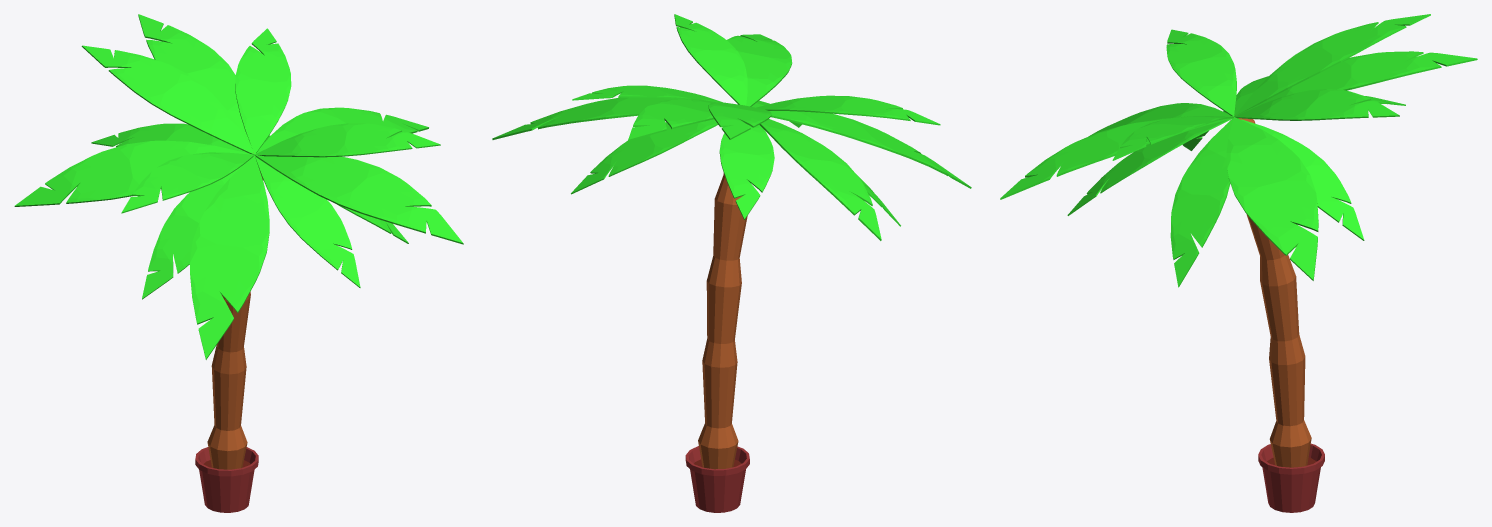
File: Palm Tree.glb
The picture shows the model from 3 angles, left to right: view 1: azimuth 30°, elevation 25°; view 2: azimuth 150°, elevation 25°; view 3: azimuth 270°, elevation 25°; orthographic projection. The views are drawn at different scales.
Parts seen in each view (by area): view 1: Leaf.002, Leaf.003, Leaf.001, Leaf.012, Tree, Leaf.011, Leaf.008, Leaf, Leaf.010, Leaf.013, Leaf.007, Pot (+2 smaller); view 2: Tree, Leaf.001, Leaf.006, Leaf.010, Pot, Leaf.005, Leaf.002, Leaf.003, Leaf.013, Leaf.004, Leaf, Leaf.012 (+1 smaller); view 3: Leaf.004, Tree, Leaf.009, Leaf.012, Leaf, Leaf.013, Leaf.011, Leaf.003, Pot, Leaf.005, Leaf.008, Leaf.010 (+1 smaller).
Boxes of the visible parts, left/top/right/bottom form: Leaf.002: left=189, top=155, right=269, bottom=359; Leaf.003: left=255, top=154, right=463, bottom=244; Leaf.001: left=14, top=140, right=252, bottom=206; Leaf.012: left=81, top=45, right=253, bottom=154; Tree: left=207, top=152, right=263, bottom=469; Leaf.011: left=235, top=28, right=291, bottom=154; Leaf.008: left=254, top=155, right=360, bottom=287; Leaf: left=138, top=14, right=254, bottom=154; Leaf.010: left=255, top=123, right=440, bottom=157; Leaf.013: left=121, top=152, right=254, bottom=213; Leaf.007: left=142, top=164, right=244, bottom=299; Pot: left=195, top=447, right=258, bottom=512; Tree: left=698, top=173, right=747, bottom=469; Leaf.001: left=759, top=119, right=881, bottom=240; Leaf.006: left=719, top=124, right=774, bottom=219; Leaf.010: left=674, top=14, right=747, bottom=105; Pot: left=685, top=446, right=749, bottom=512; Leaf.005: left=571, top=119, right=718, bottom=194; Leaf.002: left=769, top=111, right=971, bottom=188; Leaf.003: left=727, top=34, right=792, bottom=106; Leaf.013: left=756, top=95, right=940, bottom=125; Leaf.004: left=492, top=97, right=688, bottom=139; Leaf: left=628, top=99, right=713, bottom=141; Leaf.012: left=708, top=102, right=771, bottom=139; Leaf.004: left=1226, top=116, right=1318, bottom=280; Tree: left=1230, top=118, right=1311, bottom=467; Leaf.009: left=1170, top=118, right=1233, bottom=287; Leaf.012: left=1234, top=14, right=1430, bottom=115; Leaf: left=1234, top=51, right=1477, bottom=116; Leaf.013: left=1166, top=29, right=1236, bottom=116; Leaf.011: left=1235, top=88, right=1399, bottom=120; Leaf.003: left=1000, top=116, right=1233, bottom=199; Pot: left=1258, top=443, right=1324, bottom=512; Leaf.005: left=1241, top=119, right=1364, bottom=240; Leaf.008: left=1067, top=119, right=1231, bottom=215; Leaf.010: left=1112, top=116, right=1233, bottom=160.
Size of the model in its own units: 5.16 by 5.29 by 5.1.
